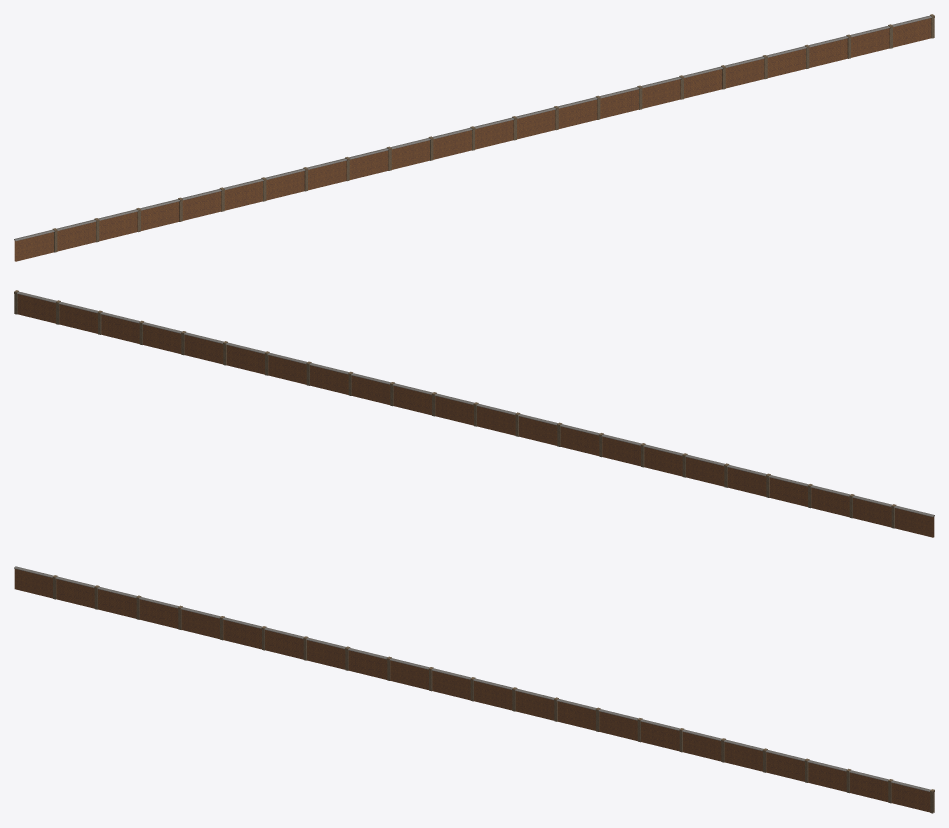
File: Wall_01_22_Parts.fbx
The picture shows the model from 3 angles, top to bottom: view 1: azimuth 30°, elevation 25°; view 2: azimuth 150°, elevation 25°; view 3: azimuth 330°, elevation 25°; orthographic projection.
Visible parts, largest first — view 1: Wall_H_01_22_1, Wall_L_01_22_1; view 2: Wall_H_01_22_1, Wall_L_01_22_1; view 3: Wall_H_01_22_1, Wall_L_01_22_1.
Part boxes in pixels (x1=…): Wall_H_01_22_1: x1=14, y1=14, x2=934, y2=261; Wall_L_01_22_1: x1=14, y1=19, x2=931, y2=250; Wall_H_01_22_1: x1=14, y1=290, x2=934, y2=537; Wall_L_01_22_1: x1=17, y1=295, x2=934, y2=526; Wall_H_01_22_1: x1=14, y1=566, x2=934, y2=813; Wall_L_01_22_1: x1=29, y1=570, x2=934, y2=812.
Bounding box in the file's own units: 184 × 4.29 × 0.7951.
